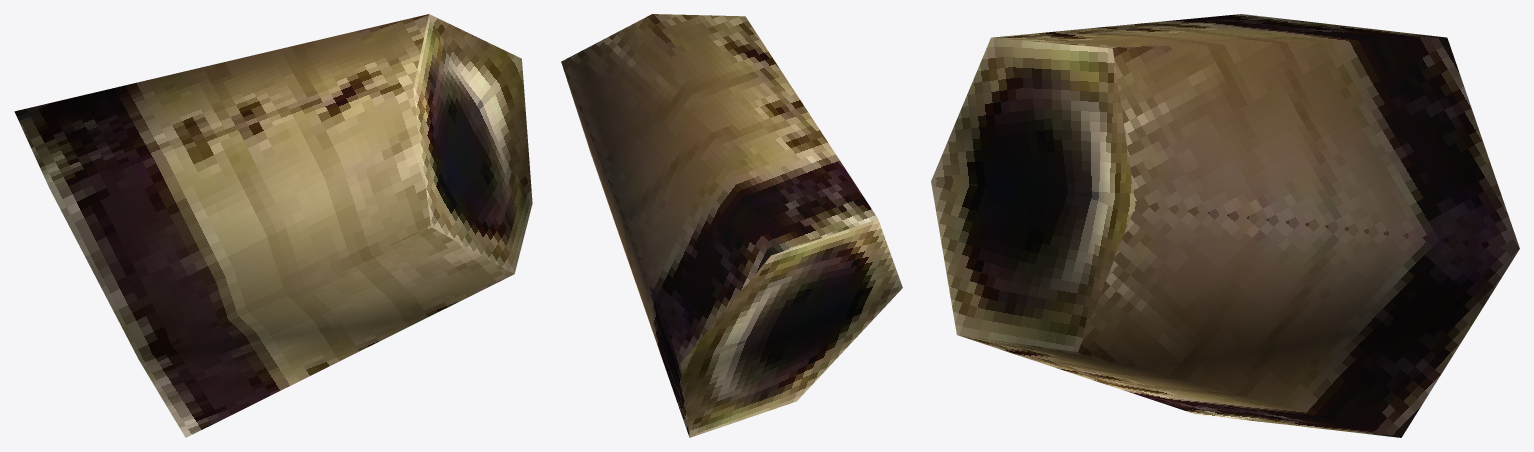
The picture shows the model from 3 angles, left to right: view 1: azimuth 30°, elevation 25°; view 2: azimuth 150°, elevation 25°; view 3: azimuth 270°, elevation 25°; orthographic projection. The views are drawn at different scales.
Visible parts, largest first — view 1: model_FR_5; view 2: model_FR_5; view 3: model_FR_5.
Boxes of the visible parts, left/top/right/bottom form: model_FR_5: left=14, top=14, right=532, bottom=437; model_FR_5: left=561, top=14, right=902, bottom=437; model_FR_5: left=931, top=14, right=1519, bottom=437.
Bounding box in the file's own units: 0.2497 × 0.2205 × 0.2387.
1 material, 1 textured.
